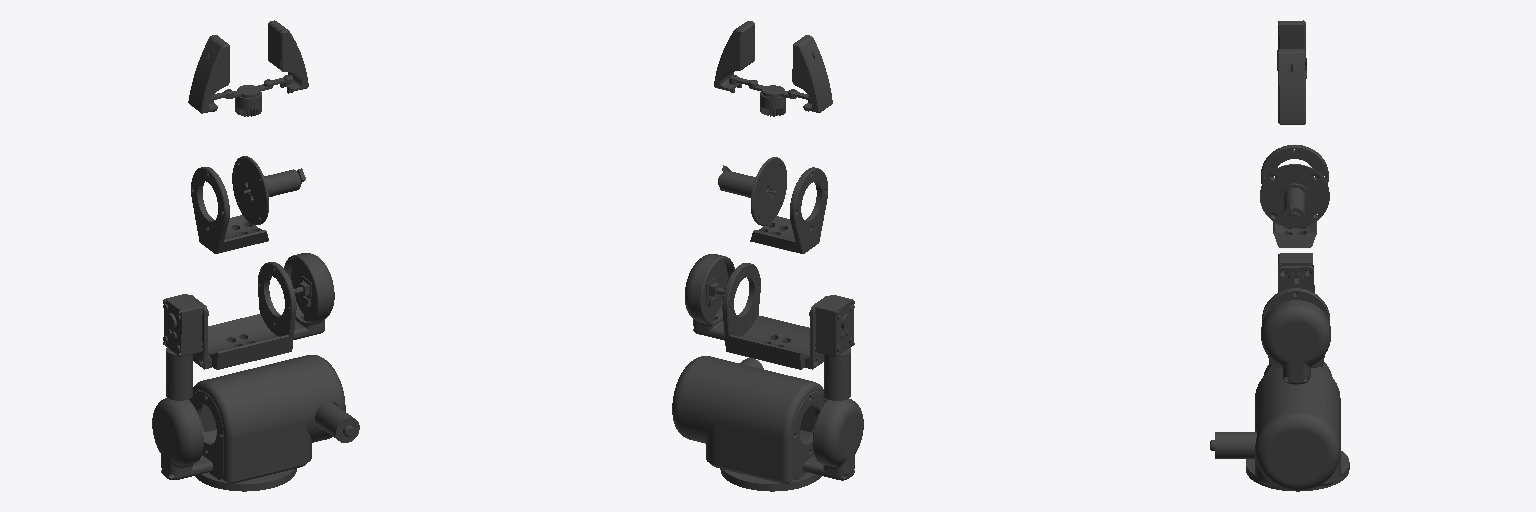
URDF robot description (marav3best):
<?xml version="1.0"?>
<robot name="marav3best">

  <!-- Materials -->
  <material name="Generic">
    <color rgba="0.314 0.314 0.314 1.0"/>
  </material>

  <link name="base_link">
    <inertial>
      <origin xyz="-0.002348 -0.000935 0.048147" rpy="0 0 0"/>
      <mass value="1.835799"/>
      <inertia ixx="9.135036e-03" ixy="-3.556599e-05" ixz="3.306054e-05"
               iyy="1.030374e-02" iyz="6.878454e-06" izz="1.158690e-02"/>
    </inertial>
    <visual>
      <origin xyz="0.000000 0.000000 0.000000" rpy="1.570796 0.000000 0.000000"/>
      <geometry>
        <mesh filename="package://marav3best_description/meshes/marav3best/base_link.dae" scale="1 1 1"/>
      </geometry>
      <material name="Generic"/>
    </visual>
    <collision>
      <origin xyz="0.000000 0.000000 0.000000" rpy="1.570796 0.000000 0.000000"/>
      <geometry>
        <mesh filename="package://marav3best_description/meshes/marav3best/base_link.dae" scale="1 1 1"/>
      </geometry>
    </collision>
  </link>

  <link name="RG_shoulder_link">
    <inertial>
      <origin xyz="0.001929 0.006923 -0.042870" rpy="0 0 0"/>
      <mass value="0.515218"/>
      <inertia ixx="9.696249e-04" ixy="-2.750271e-04" ixz="7.615150e-05"
               iyy="2.598872e-03" iyz="7.590550e-05" izz="2.593069e-03"/>
    </inertial>
    <visual>
      <origin xyz="-0.050000 0.000000 -0.065500" rpy="-1.570796 0.000000 1.570796"/>
      <geometry>
        <mesh filename="package://marav3best_description/meshes/marav3best/RG_shoulder_link.dae" scale="1 1 1"/>
      </geometry>
      <material name="Generic"/>
    </visual>
    <collision>
      <origin xyz="-0.050000 0.000000 -0.065500" rpy="-1.570796 0.000000 1.570796"/>
      <geometry>
        <mesh filename="package://marav3best_description/meshes/marav3best/RG_shoulder_link.dae" scale="1 1 1"/>
      </geometry>
    </collision>
  </link>

  <link name="RG_shoulder_arm">
    <inertial>
      <origin xyz="-0.000448 -0.033726 -0.081688" rpy="0 0 0"/>
      <mass value="0.739230"/>
      <inertia ixx="2.803067e-03" ixy="-1.696123e-05" ixz="2.201297e-06"
               iyy="1.516943e-03" iyz="1.625498e-04" izz="2.087611e-03"/>
    </inertial>
    <visual>
      <origin xyz="0.000000 0.000000 -0.029000" rpy="0.000000 0.000000 3.128233"/>
      <geometry>
        <mesh filename="package://marav3best_description/meshes/marav3best/RG_shoulder_arm.dae" scale="1 1 1"/>
      </geometry>
      <material name="Generic"/>
    </visual>
    <collision>
      <origin xyz="0.000000 0.000000 -0.029000" rpy="0.000000 0.000000 3.128233"/>
      <geometry>
        <mesh filename="package://marav3best_description/meshes/marav3best/RG_shoulder_arm.dae" scale="1 1 1"/>
      </geometry>
    </collision>
  </link>

  <link name="RG_elbow_link">
    <inertial>
      <origin xyz="-0.000005 -0.028077 -0.045092" rpy="0 0 0"/>
      <mass value="0.355001"/>
      <inertia ixx="2.083464e-03" ixy="4.211373e-08" ixz="1.436305e-07"
               iyy="1.868716e-03" iyz="-2.559583e-04" izz="4.177623e-04"/>
    </inertial>
    <visual>
      <origin xyz="0.000000 0.000000 0.000000" rpy="0.000000 0.000000 0.000000"/>
      <geometry>
        <mesh filename="package://marav3best_description/meshes/marav3best/RG_elbow_link.dae" scale="1 1 1"/>
      </geometry>
      <material name="Generic"/>
    </visual>
    <collision>
      <origin xyz="0.000000 0.000000 0.000000" rpy="0.000000 0.000000 0.000000"/>
      <geometry>
        <mesh filename="package://marav3best_description/meshes/marav3best/RG_elbow_link.dae" scale="1 1 1"/>
      </geometry>
    </collision>
  </link>

  <link name="RG_elbow_arm">
    <inertial>
      <origin xyz="-0.000326 0.032091 -0.082902" rpy="0 0 0"/>
      <mass value="0.689677"/>
      <inertia ixx="2.714237e-03" ixy="1.361414e-05" ixz="1.786758e-06"
               iyy="1.370210e-03" iyz="-1.733726e-04" izz="1.982350e-03"/>
    </inertial>
    <visual>
      <origin xyz="0.000000 0.000000 -0.030000" rpy="0.000000 0.000000 0.010264"/>
      <geometry>
        <mesh filename="package://marav3best_description/meshes/marav3best/RG_elbow_arm.dae" scale="1 1 1"/>
      </geometry>
      <material name="Generic"/>
    </visual>
    <collision>
      <origin xyz="0.000000 0.000000 -0.030000" rpy="0.000000 0.000000 0.010264"/>
      <geometry>
        <mesh filename="package://marav3best_description/meshes/marav3best/RG_elbow_arm.dae" scale="1 1 1"/>
      </geometry>
    </collision>
  </link>

  <link name="RG_wrist_link">
    <inertial>
      <origin xyz="0.000034 -0.020127 -0.043407" rpy="0 0 0"/>
      <mass value="0.106373"/>
      <inertia ixx="2.061150e-04" ixy="-1.124648e-07" ixz="2.659564e-07"
               iyy="1.486251e-04" iyz="2.823084e-05" izz="1.104264e-04"/>
    </inertial>
    <visual>
      <origin xyz="0.000000 0.000000 0.000000" rpy="0.000000 0.000000 0.000000"/>
      <geometry>
        <mesh filename="package://marav3best_description/meshes/marav3best/RG_wrist_link.dae" scale="1 1 1"/>
      </geometry>
      <material name="Generic"/>
    </visual>
    <collision>
      <origin xyz="0.000000 0.000000 0.000000" rpy="0.000000 0.000000 0.000000"/>
      <geometry>
        <mesh filename="package://marav3best_description/meshes/marav3best/RG_wrist_link.dae" scale="1 1 1"/>
      </geometry>
    </collision>
  </link>

  <link name="RG_wrist_arm">
    <inertial>
      <origin xyz="-0.000906 -0.044882 -0.053216" rpy="0 0 0"/>
      <mass value="0.516843"/>
      <inertia ixx="1.631722e-03" ixy="-1.715629e-05" ixz="-5.992788e-06"
               iyy="7.710959e-04" iyz="-2.829586e-04" izz="1.214030e-03"/>
    </inertial>
    <visual>
      <origin xyz="0.000000 0.000000 -0.030000" rpy="0.000000 0.000000 3.121628"/>
      <geometry>
        <mesh filename="package://marav3best_description/meshes/marav3best/RG_wrist_arm.dae" scale="1 1 1"/>
      </geometry>
      <material name="Generic"/>
    </visual>
    <collision>
      <origin xyz="0.000000 0.000000 -0.030000" rpy="0.000000 0.000000 3.121628"/>
      <geometry>
        <mesh filename="package://marav3best_description/meshes/marav3best/RG_wrist_arm.dae" scale="1 1 1"/>
      </geometry>
    </collision>
  </link>

  <link name="RG_gripper_horn">
    <inertial>
      <origin xyz="-0.000000 0.000000 0.002693" rpy="0 0 0"/>
      <mass value="0.015501"/>
      <inertia ixx="1.755345e-06" ixy="3.956047e-09" ixz="0.000000e+00"
               iyy="2.382831e-06" iyz="0.000000e+00" izz="2.273024e-06"/>
    </inertial>
    <visual>
      <origin xyz="0.000000 0.000000 0.018000" rpy="0.000000 0.000000 2.397166"/>
      <geometry>
        <mesh filename="package://marav3best_description/meshes/marav3best/RG_gripper_horn.dae" scale="1 1 1"/>
      </geometry>
      <material name="Generic"/>
    </visual>
    <collision>
      <origin xyz="0.000000 0.000000 0.018000" rpy="0.000000 0.000000 2.397166"/>
      <geometry>
        <mesh filename="package://marav3best_description/meshes/marav3best/RG_gripper_horn.dae" scale="1 1 1"/>
      </geometry>
    </collision>
  </link>

  <link name="marav3best_gripper_2nd_link">
    <inertial>
      <origin xyz="0.014672 -0.000207 -0.000135" rpy="0 0 0"/>
      <mass value="0.001000"/>
      <inertia ixx="1.000000e-06" ixy="1.413518e-09" ixz="5.050796e-09"
               iyy="1.000000e-06" iyz="-7.128629e-11" izz="1.000000e-06"/>
    </inertial>
    <visual>
      <origin xyz="0.012999 -0.000183 -0.000300" rpy="-0.000000 0.000000 3.127480"/>
      <geometry>
        <mesh filename="package://marav3best_description/meshes/marav3best/marav3best_gripper_2nd_link.dae" scale="1 1 1"/>
      </geometry>
      <material name="Generic"/>
    </visual>
    <collision>
      <origin xyz="0.012999 -0.000183 -0.000300" rpy="-0.000000 0.000000 3.127480"/>
      <geometry>
        <mesh filename="package://marav3best_description/meshes/marav3best/marav3best_gripper_2nd_link.dae" scale="1 1 1"/>
      </geometry>
    </collision>
  </link>

  <link name="marav3best_gripper_2nd_link_2">
    <inertial>
      <origin xyz="-0.014672 0.000207 -0.000135" rpy="0 0 0"/>
      <mass value="0.001000"/>
      <inertia ixx="1.000000e-06" ixy="1.413518e-09" ixz="-5.050796e-09"
               iyy="1.000000e-06" iyz="7.128629e-11" izz="1.000000e-06"/>
    </inertial>
    <visual>
      <origin xyz="-0.012999 0.000183 -0.000300" rpy="0.000000 0.000000 -0.014113"/>
      <geometry>
        <mesh filename="package://marav3best_description/meshes/marav3best/marav3best_gripper_2nd_link_2.dae" scale="1 1 1"/>
      </geometry>
      <material name="Generic"/>
    </visual>
    <collision>
      <origin xyz="-0.012999 0.000183 -0.000300" rpy="0.000000 0.000000 -0.014113"/>
      <geometry>
        <mesh filename="package://marav3best_description/meshes/marav3best/marav3best_gripper_2nd_link_2.dae" scale="1 1 1"/>
      </geometry>
    </collision>
  </link>

  <link name="marav3best_gripper">
    <inertial>
      <origin xyz="-0.002946 0.000000 0.034563" rpy="0 0 0"/>
      <mass value="0.048502"/>
      <inertia ixx="2.406468e-05" ixy="0.000000e+00" ixz="6.615465e-06"
               iyy="2.472685e-05" iyz="0.000000e+00" izz="8.789807e-06"/>
    </inertial>
    <visual>
      <origin xyz="0.019000 -0.016000 -0.006250" rpy="1.570796 -1.570796 0.000000"/>
      <geometry>
        <mesh filename="package://marav3best_description/meshes/marav3best/marav3best_gripper.dae" scale="1 1 1"/>
      </geometry>
      <material name="Generic"/>
    </visual>
    <collision>
      <origin xyz="0.019000 -0.016000 -0.006250" rpy="1.570796 -1.570796 0.000000"/>
      <geometry>
        <mesh filename="package://marav3best_description/meshes/marav3best/marav3best_gripper.dae" scale="1 1 1"/>
      </geometry>
    </collision>
  </link>

  <link name="marav3best_gripper_2">
    <inertial>
      <origin xyz="0.002946 0.000000 0.034563" rpy="0 0 0"/>
      <mass value="0.048502"/>
      <inertia ixx="2.406468e-05" ixy="0.000000e+00" ixz="-6.615465e-06"
               iyy="2.472685e-05" iyz="0.000000e+00" izz="8.789807e-06"/>
    </inertial>
    <visual>
      <origin xyz="-0.019000 0.016000 -0.006250" rpy="-1.570796 -1.570796 0.000000"/>
      <geometry>
        <mesh filename="package://marav3best_description/meshes/marav3best/marav3best_gripper_2.dae" scale="1 1 1"/>
      </geometry>
      <material name="Generic"/>
    </visual>
    <collision>
      <origin xyz="-0.019000 0.016000 -0.006250" rpy="-1.570796 -1.570796 0.000000"/>
      <geometry>
        <mesh filename="package://marav3best_description/meshes/marav3best/marav3best_gripper_2.dae" scale="1 1 1"/>
      </geometry>
    </collision>
  </link>

  <joint name="J1_yaw_base_shoulderLink" type="continuous">
    <parent link="base_link"/>
    <child link="RG_shoulder_link"/>
    <origin xyz="0.000000 0.000000 0.161500" rpy="-3.141593 0.000000 0.000000"/>
    <axis xyz="0.000000 0.000000 1.000000"/>
    <limit effort="100.0" velocity="1.00"/>
  </joint>

  <joint name="J2_pitch_shoulder" type="continuous">
    <parent link="RG_shoulder_link"/>
    <child link="RG_shoulder_arm"/>
    <origin xyz="-0.104000 0.000000 -0.065500" rpy="1.570796 0.000000 -1.570796"/>
    <axis xyz="0.000000 0.000000 -1.000000"/>
    <limit effort="100.0" velocity="1.00"/>
  </joint>

  <joint name="J3_rigid_shoulderArm_elbowLink" type="fixed">
    <parent link="RG_shoulder_arm"/>
    <child link="RG_elbow_link"/>
    <origin xyz="-0.001870 -0.139988 -0.149000" rpy="-3.141593 0.000000 -0.013360"/>
  </joint>

  <joint name="J4_pitch_elbow" type="continuous">
    <parent link="RG_elbow_link"/>
    <child link="RG_elbow_arm"/>
    <origin xyz="0.000000 0.000000 0.055000" rpy="0.000000 0.000000 -0.013360"/>
    <axis xyz="0.000000 0.000000 1.000000"/>
    <limit effort="100.0" velocity="1.00"/>
  </joint>

  <joint name="J5_rigid_elbowArm_wristLink" type="fixed">
    <parent link="RG_elbow_arm"/>
    <child link="RG_wrist_link"/>
    <origin xyz="-0.001437 0.139993 -0.150000" rpy="-3.141593 0.000000 -3.131329"/>
  </joint>

  <joint name="J6_pitch_wrist" type="continuous">
    <parent link="RG_wrist_link"/>
    <child link="RG_wrist_arm"/>
    <origin xyz="0.000000 0.000000 0.030000" rpy="0.000000 0.000000 -3.131329"/>
    <axis xyz="0.000000 0.000000 -1.000000"/>
    <limit effort="100.0" velocity="1.00"/>
  </joint>

  <joint name="J9_horn_drive" type="continuous">
    <parent link="RG_wrist_arm"/>
    <child link="RG_gripper_horn"/>
    <origin xyz="-0.002376 -0.118976 -0.082000" rpy="-1.550832 1.570796 0.000000"/>
    <axis xyz="0.000000 0.000000 1.000000"/>
    <limit effort="100.0" velocity="1.00"/>
  </joint>

  <joint name="J10_horn_link1" type="continuous">
    <parent link="RG_gripper_horn"/>
    <child link="marav3best_gripper_2nd_link"/>
    <origin xyz="0.025999 -0.000167 -0.010800" rpy="-3.141593 0.000000 0.000000"/>
    <axis xyz="0.000000 0.000000 1.000000"/>
    <limit effort="100.0" velocity="1.00"/>
    <mimic joint="J9_horn_drive" multiplier="2.0" offset="0.0"/>
  </joint>

  <joint name="J11_horn_link2" type="continuous">
    <parent link="RG_gripper_horn"/>
    <child link="marav3best_gripper_2nd_link_2"/>
    <origin xyz="-0.025999 0.000167 -0.010800" rpy="-3.141593 0.000000 0.000000"/>
    <axis xyz="0.000000 0.000000 1.000000"/>
    <limit effort="100.0" velocity="1.00"/>
    <mimic joint="J9_horn_drive" multiplier="2.0" offset="0.0"/>
  </joint>

  <joint name="J12_link1_tooth1" type="continuous">
    <parent link="marav3best_gripper_2nd_link"/>
    <child link="marav3best_gripper"/>
    <origin xyz="0.025997 -0.000367 -0.003550" rpy="0.000000 -0.000000 0.000000"/>
    <axis xyz="0.000000 0.000000 1.000000"/>
    <limit effort="100.0" velocity="1.00"/>
    <mimic joint="J9_horn_drive" multiplier="-1.0" offset="0.0"/>
  </joint>

  <joint name="J13_link2_tooth2" type="continuous">
    <parent link="marav3best_gripper_2nd_link_2"/>
    <child link="marav3best_gripper_2"/>
    <origin xyz="-0.025997 0.000367 -0.003550" rpy="-0.000000 0.000000 0.000000"/>
    <axis xyz="0.000000 0.000000 1.000000"/>
    <limit effort="100.0" velocity="1.00"/>
    <mimic joint="J9_horn_drive" multiplier="-1.0" offset="0.0"/>
  </joint>

  <!-- ROS 2 control: generated generic system -->
  <ros2_control name="marav3best_system" type="system">
    <hardware>
      <plugin>mock_components/GenericSystem</plugin>
      <param name="cmd_topic">sim/marav3best_system/cmd</param>
      <param name="state_topic">sim/marav3best_system/state</param>
      <param name="calculate_dynamics">true</param>
    </hardware>

    <joint name="J1_yaw_base_shoulderLink">
      <command_interface name="position"/>
      <command_interface name="velocity"/>
      <state_interface name="position">
        <param name="initial_value">0.0</param>
      </state_interface>
      <state_interface name="velocity"/>
      <state_interface name="effort"/>
    </joint>
    <joint name="J2_pitch_shoulder">
      <command_interface name="position"/>
      <command_interface name="velocity"/>
      <state_interface name="position">
        <param name="initial_value">0.0</param>
      </state_interface>
      <state_interface name="velocity"/>
      <state_interface name="effort"/>
    </joint>
    <joint name="J4_pitch_elbow">
      <command_interface name="position"/>
      <command_interface name="velocity"/>
      <state_interface name="position">
        <param name="initial_value">0.0</param>
      </state_interface>
      <state_interface name="velocity"/>
      <state_interface name="effort"/>
    </joint>
    <joint name="J6_pitch_wrist">
      <command_interface name="position"/>
      <command_interface name="velocity"/>
      <state_interface name="position">
        <param name="initial_value">0.0</param>
      </state_interface>
      <state_interface name="velocity"/>
      <state_interface name="effort"/>
    </joint>
    <joint name="J9_horn_drive">
      <command_interface name="position"/>
      <command_interface name="velocity"/>
      <state_interface name="position">
        <param name="initial_value">0.0</param>
      </state_interface>
      <state_interface name="velocity"/>
      <state_interface name="effort"/>
    </joint>
  </ros2_control>

</robot>

--- What the picture shows (computed from the rendered views, not written in the file) ---
The picture shows the robot from 3 angles, left to right: view 1: azimuth 30°, elevation 25°; view 2: azimuth 150°, elevation 25°; view 3: azimuth 270°, elevation 25°; orthographic projection.
Model marav3best with 12 links and 11 joints (9 continuous, 2 fixed), rooted at base_link, posed all joints at 0.
Visible links, largest first — view 1: RG_shoulder_link, RG_elbow_link, RG_wrist_link, marav3best_gripper_2, marav3best_gripper, RG_gripper_horn; view 2: RG_shoulder_link, RG_elbow_link, RG_wrist_link, marav3best_gripper_2, marav3best_gripper, RG_gripper_horn; view 3: RG_shoulder_link, RG_elbow_link, RG_wrist_link, marav3best_gripper, marav3best_gripper_2.
Boxes of the visible links, x1,y1,x2,y2 form: RG_shoulder_link: [152, 355, 359, 491]; RG_elbow_link: [163, 253, 334, 400]; RG_wrist_link: [191, 156, 305, 253]; marav3best_gripper_2: [188, 35, 229, 113]; marav3best_gripper: [268, 20, 308, 93]; RG_gripper_horn: [225, 81, 272, 116]; RG_shoulder_link: [672, 356, 863, 491]; RG_elbow_link: [685, 254, 854, 400]; RG_wrist_link: [718, 157, 827, 253]; marav3best_gripper_2: [792, 35, 832, 112]; marav3best_gripper: [714, 21, 754, 92]; RG_gripper_horn: [749, 81, 796, 116]; RG_shoulder_link: [1210, 362, 1349, 491]; RG_elbow_link: [1261, 253, 1330, 384]; RG_wrist_link: [1260, 145, 1329, 247]; marav3best_gripper: [1277, 49, 1305, 124]; marav3best_gripper_2: [1278, 20, 1306, 78].
Bounding box of the posed robot: 0.2142 × 0.1589 × 0.5482 m (x, y, z).
8 mesh visuals loaded from 12 distinct referenced files (8 Collada DAE); not drawn: 4 (reference not matched to a file when rendering).
